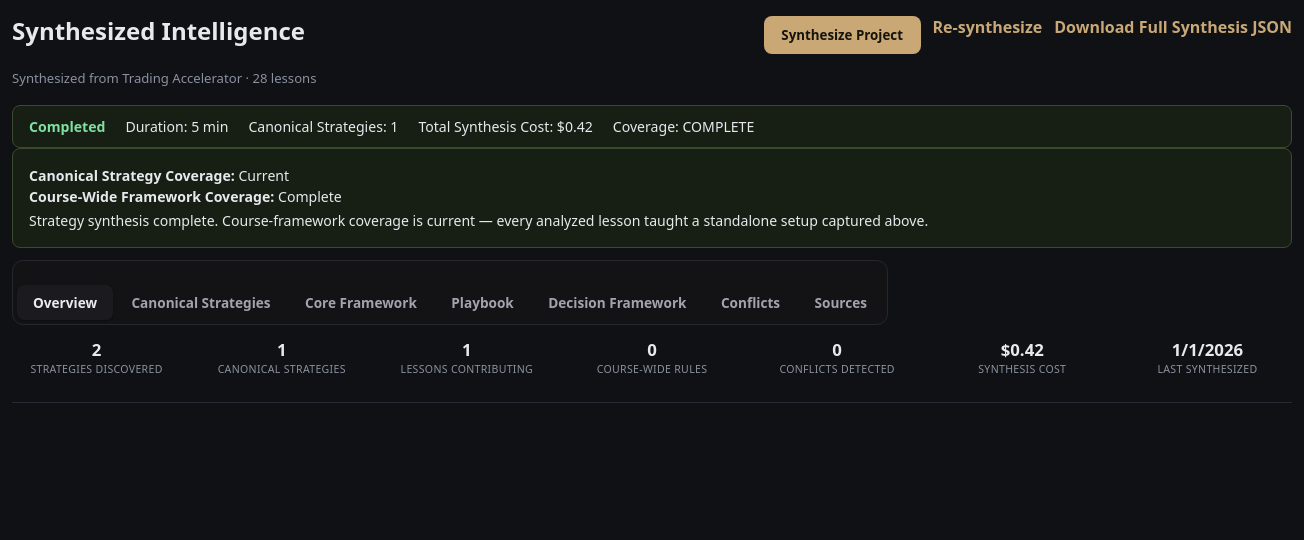
Test: CourseIntelligence › shows the Course Intelligence tabs and coverage distinction once a completed synthesis exists
Expected: the text "Canonical Strategy Coverage:" is shown, [29, 166, 235, 185]
Expected: the text "Course-Wide Framework Coverage:" is shown, [29, 188, 274, 206]
Click the button "Canonical Strategies": (201, 303) [115, 285, 287, 320]
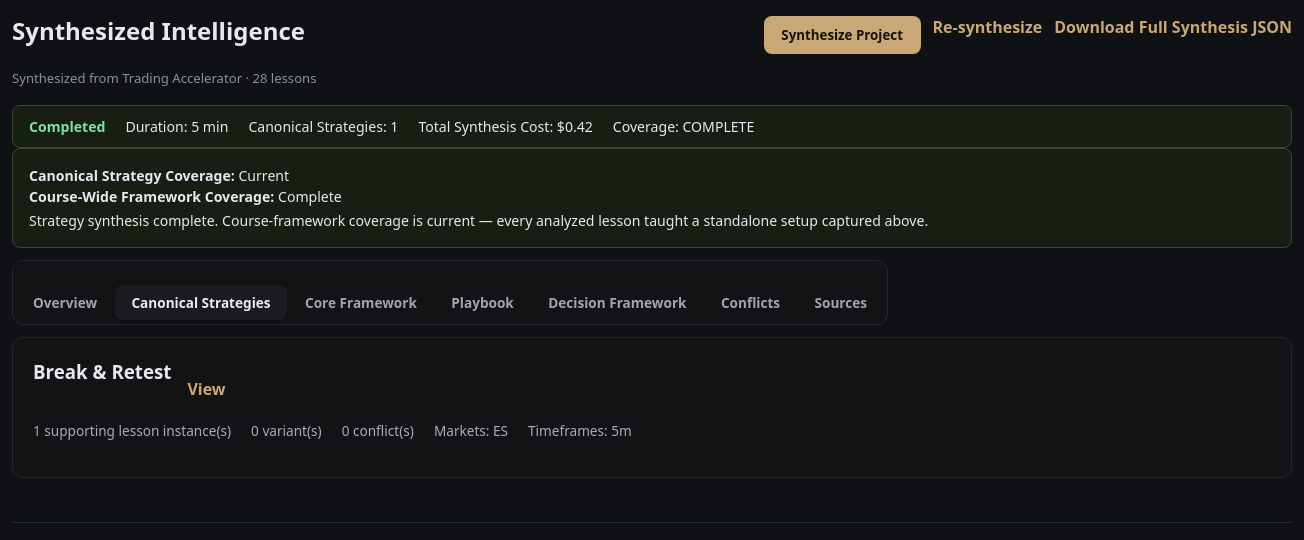
Expected: the heading "Break & Retest" is shown, [33, 358, 171, 386]
